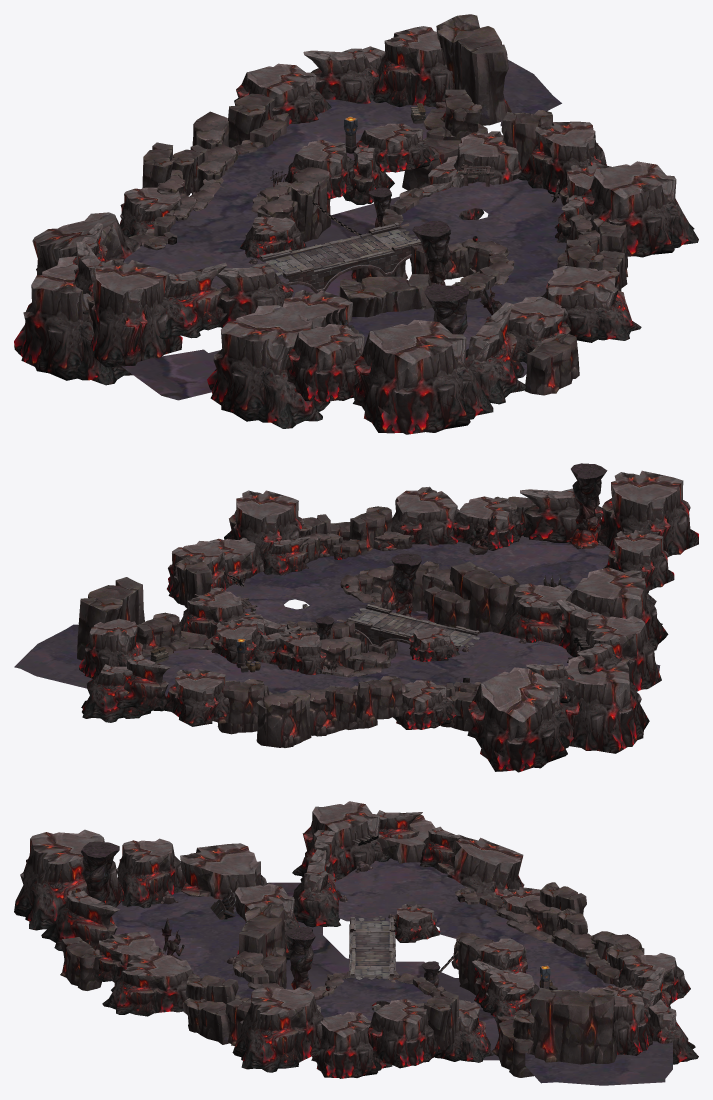
3 views of the same model, one above another, from view 1: azimuth 30°, elevation 25°; view 2: azimuth 150°, elevation 25°; view 3: azimuth 270°, elevation 25° (orthographic). The views are drawn at different scales.
Visible parts, largest first — view 1: Group001, 对象073; view 2: Group001, 对象073; view 3: Group001, 对象073.
Boxes of the visible parts, box(x1,y1,x2,y2) form: Group001: box(14, 14, 698, 434); 对象073: box(123, 59, 566, 377); Group001: box(77, 463, 698, 772); 对象073: box(14, 535, 611, 696); Group001: box(14, 801, 698, 1078); 对象073: box(111, 858, 672, 1085).
Size of the model in its own units: 158 by 37.72 by 176.
